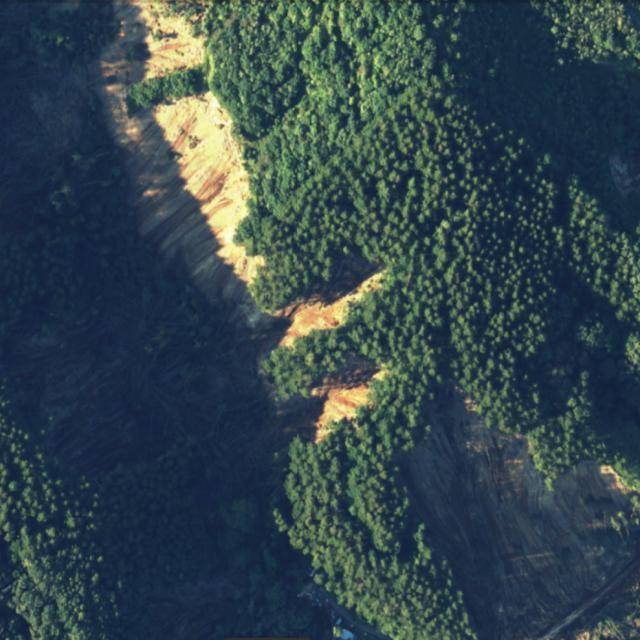landslide: (97, 1, 381, 346), (316, 378, 369, 438)
